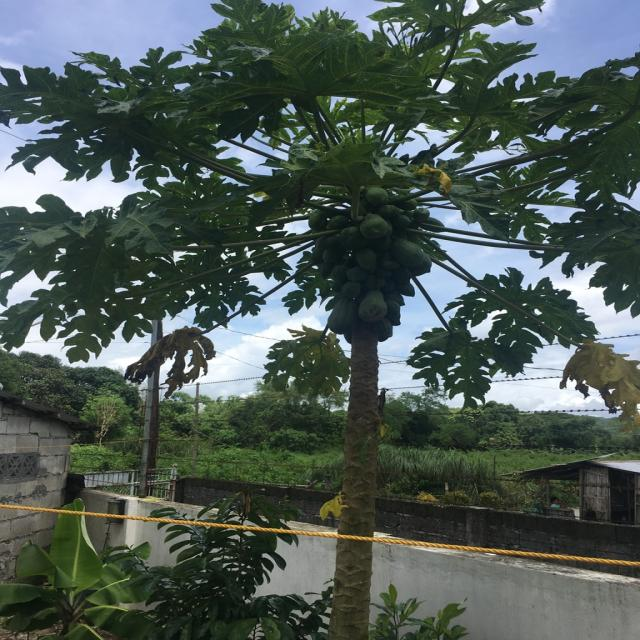Papaya-Tree: (57, 10, 633, 640)
